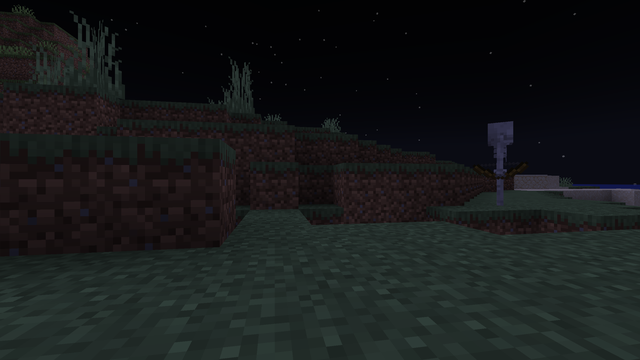squelettes: (479, 121, 520, 205)
